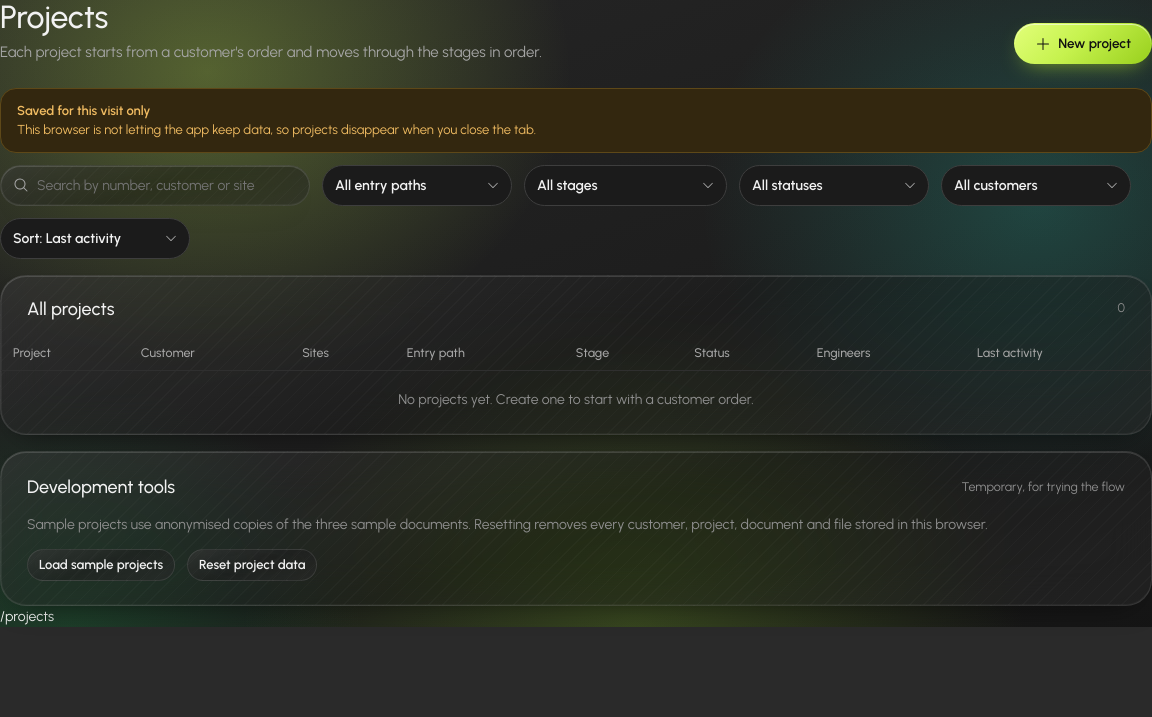
Test: projects list › starts empty, offers a new project, and fills from the sample projects tool
This screenshot has width=1152, height=717.
Expected: the text "No projects yet. Create one to start with a customer order." is shown, [1, 371, 1151, 428]
Click the button "Load sample projects": (101, 565) [27, 549, 175, 581]
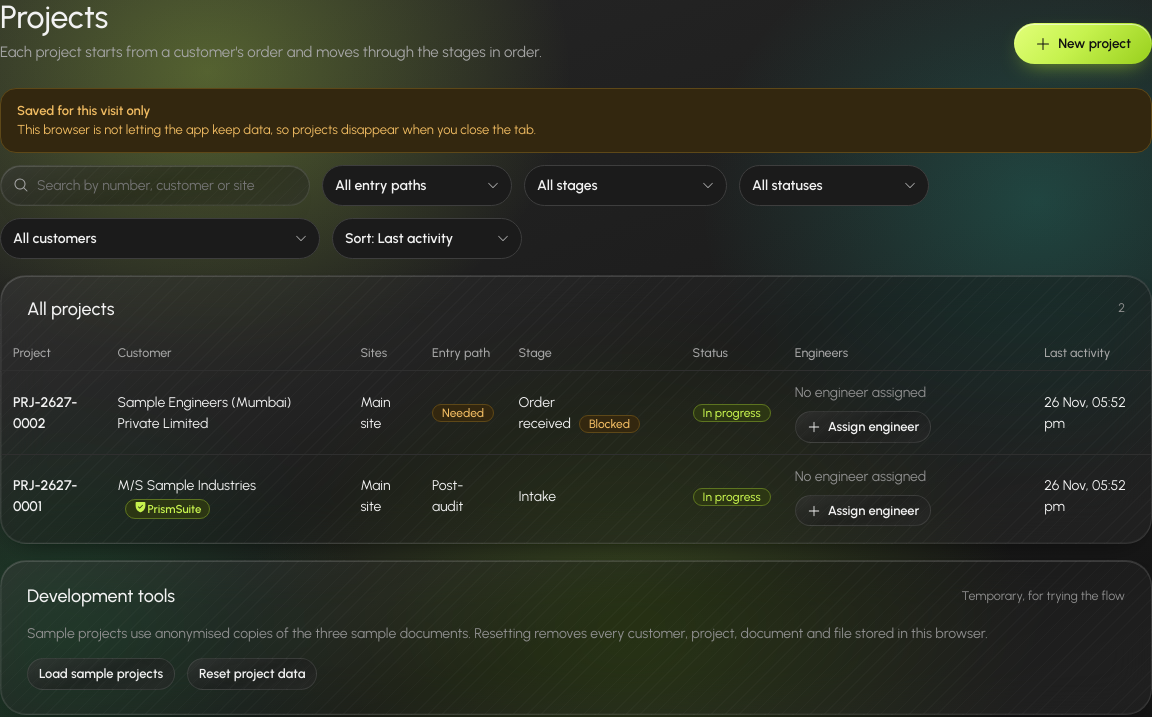
Expected: the link "PRJ-2627-0001" is shown, [13, 477, 78, 515]
Expected: the link "PRJ-2627-0002" is shown, [13, 394, 78, 432]
Expected: the text "Needed" is shown, [432, 404, 494, 422]
